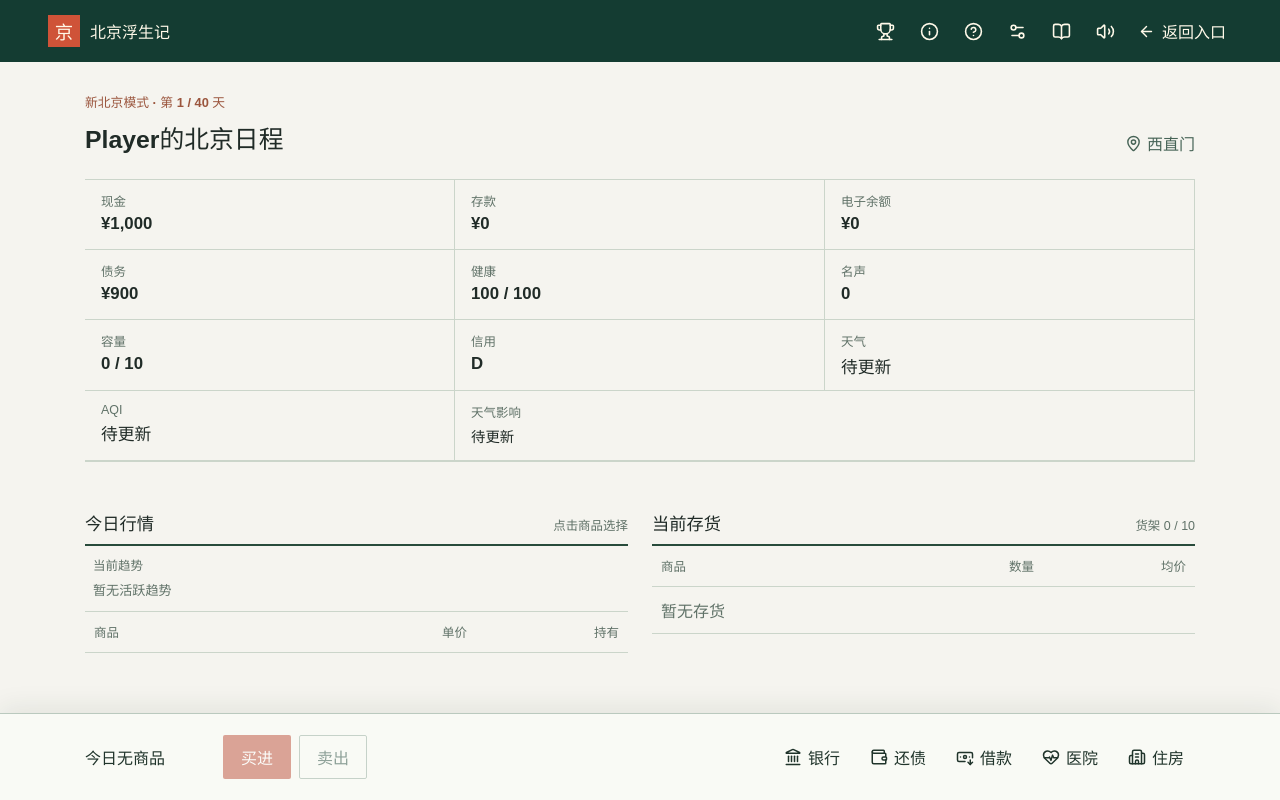
Test case: ServiceDialog › requires confirmation for repayment above half of liquid assets
Click the button "还债". click: (898, 757)
box: [859,735,937,779]
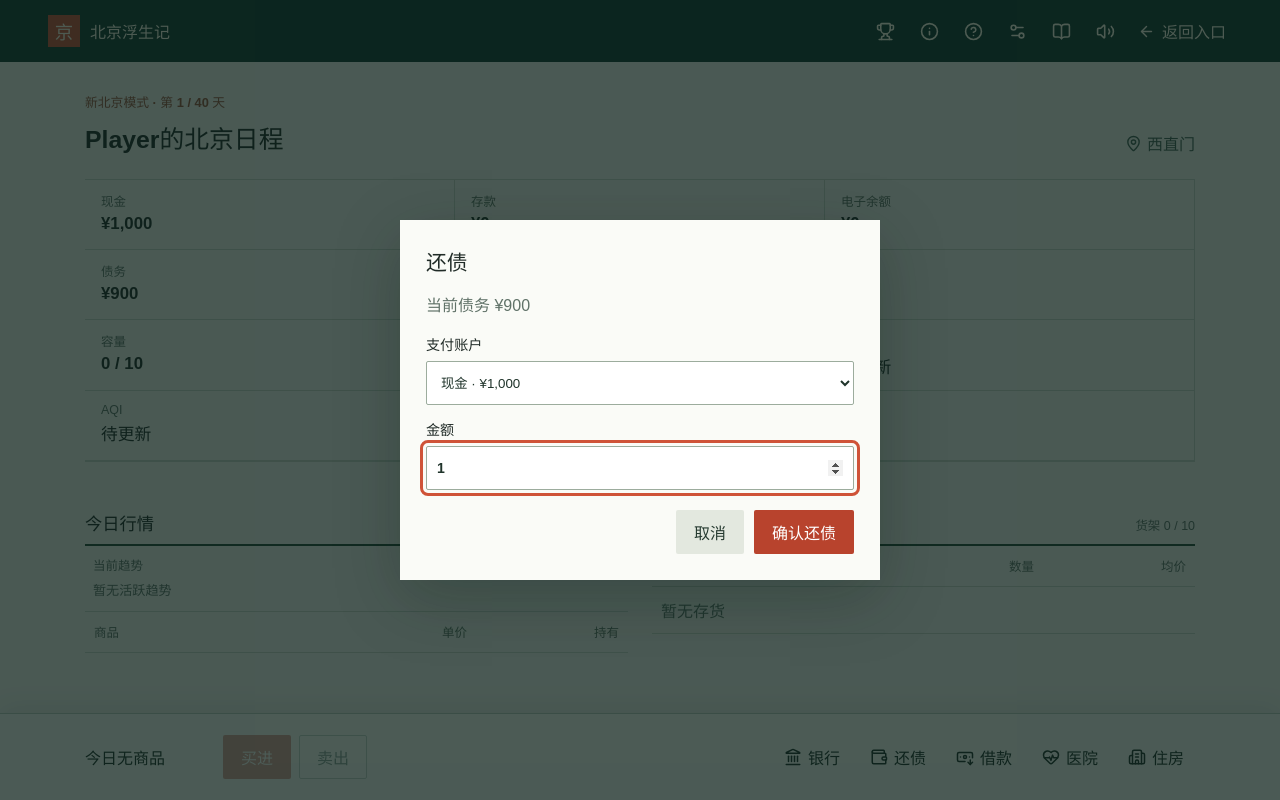
Replace the text in the number field labelled "金额" with "600". click: (640, 468)
box: [426,446,854,490]
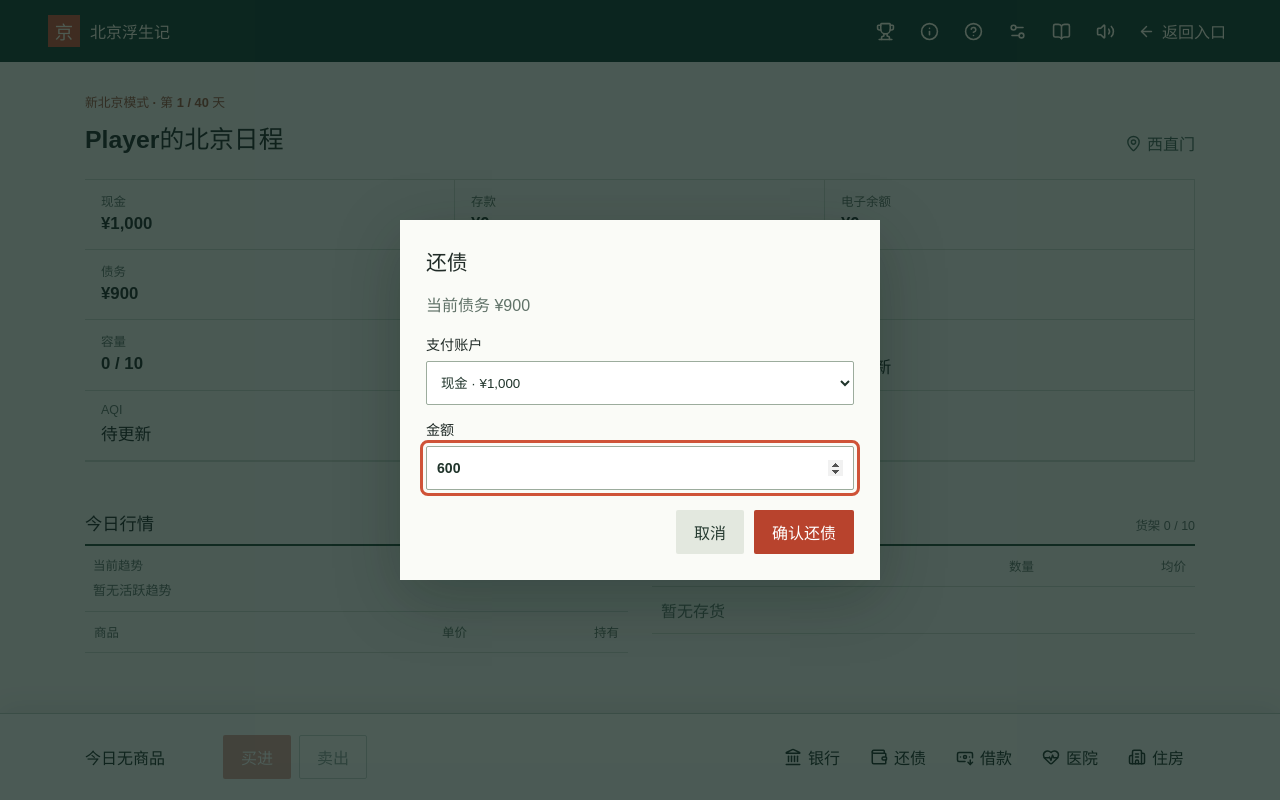
Click the button "确认还债". click: (804, 532)
box: [754,510,854,554]
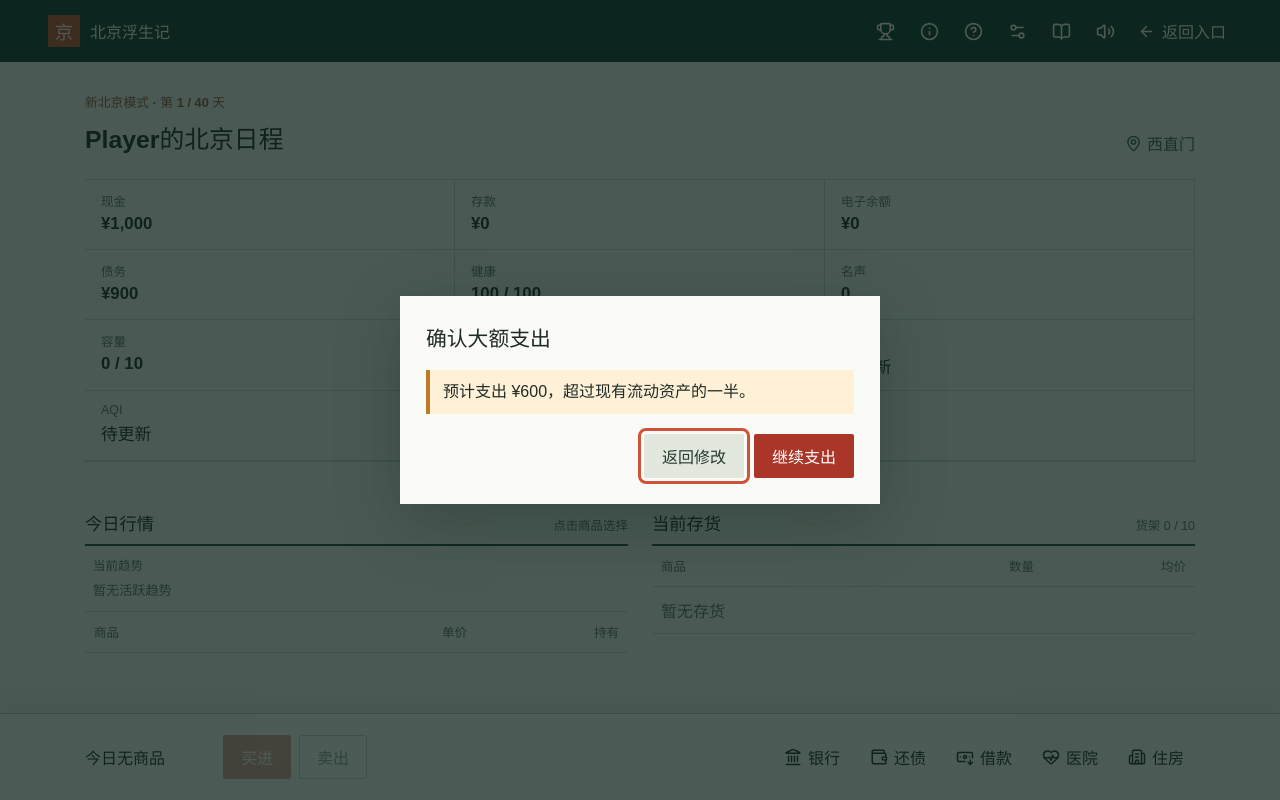
Expected: the dialog "确认大额支出" is shown, [400,296,880,504]
Click the button "继续支出". click: (804, 456)
box: [754,434,854,478]
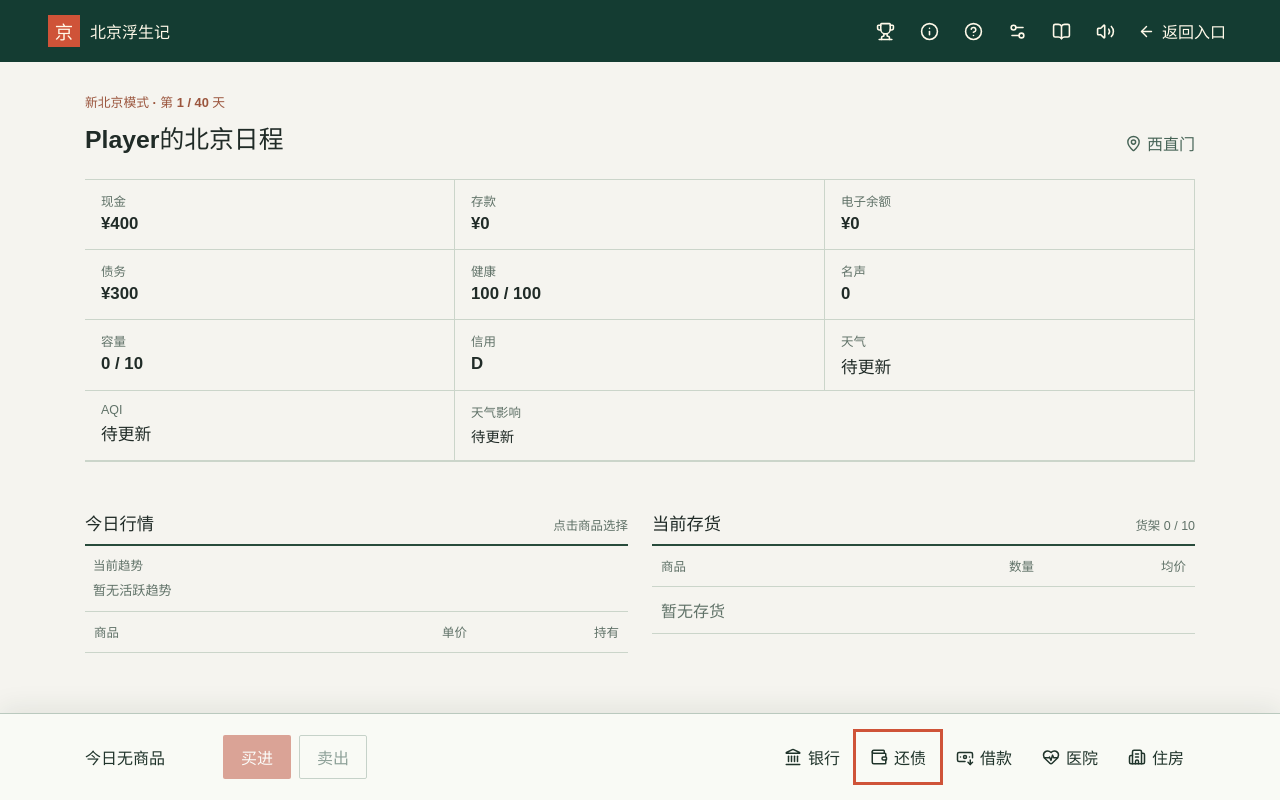
Expected: the text "¥400" is shown, [101,214,138,233]
Expected: the text "¥300" is shown, [101,284,138,303]
